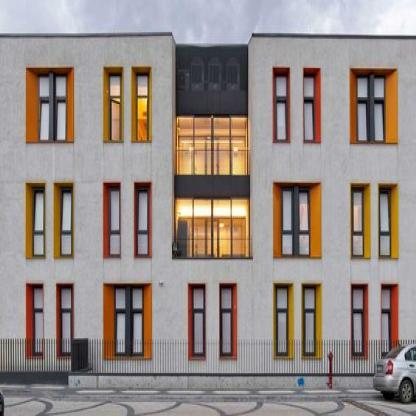Balcony: (174, 233, 253, 258), (175, 150, 249, 175)
Building Outline: (0, 32, 416, 376)
Facade: (0, 31, 416, 377)
Floor Slab: (0, 260, 415, 271), (0, 161, 172, 172), (253, 161, 415, 172), (174, 175, 250, 186)
Glass Wall: (176, 199, 249, 257), (176, 115, 247, 173)
Window: (281, 187, 311, 257), (114, 286, 144, 356), (356, 74, 386, 142), (38, 72, 67, 142), (60, 286, 73, 354), (136, 186, 149, 254), (108, 186, 121, 254), (60, 187, 73, 255), (32, 187, 45, 255), (136, 74, 149, 142), (108, 74, 121, 142), (275, 74, 288, 142), (220, 286, 232, 355), (32, 286, 44, 354), (193, 287, 205, 355), (303, 74, 315, 142), (379, 187, 391, 255), (352, 187, 364, 255), (379, 287, 391, 355), (352, 287, 364, 355), (304, 287, 316, 355), (277, 287, 289, 355)
